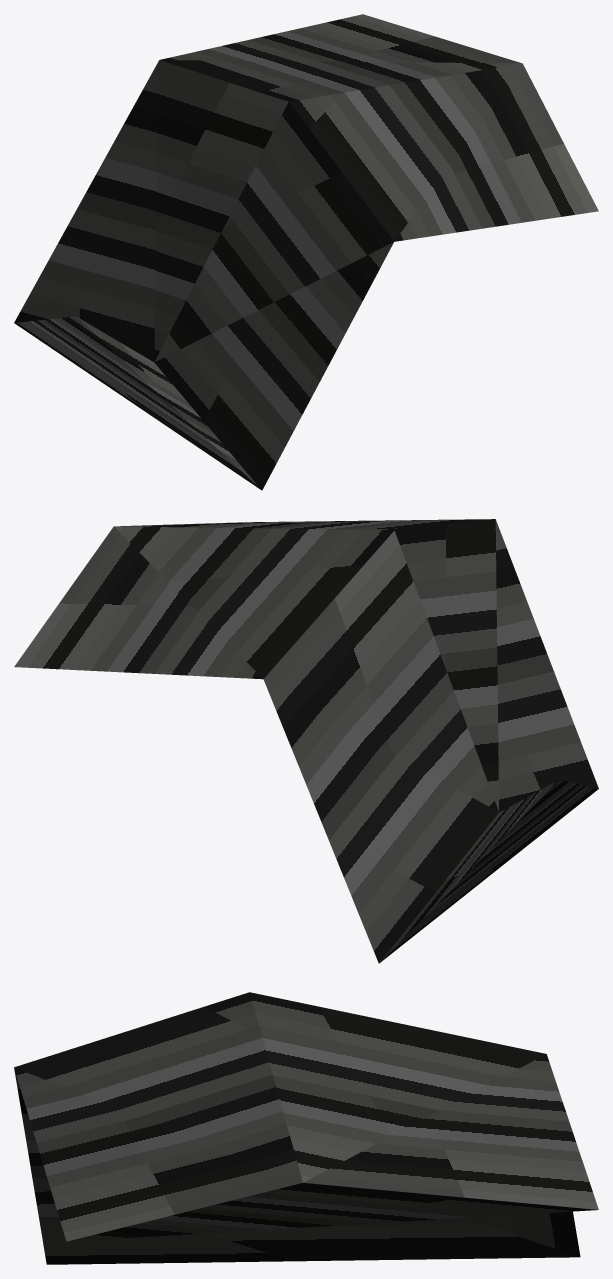
Rendered from mini_spider_leg.obj.
3 views of the same model, one above another, from view 1: azimuth 30°, elevation 25°; view 2: azimuth 150°, elevation 25°; view 3: azimuth 270°, elevation 25° (orthographic). The views are drawn at different scales.
Parts seen in each view (by area): view 1: Torus.003_Torus.010; view 2: Torus.003_Torus.010; view 3: Torus.003_Torus.010.
Part boxes in pixels (bbox=[...]): Torus.003_Torus.010: bbox=[14, 14, 598, 490]; Torus.003_Torus.010: bbox=[14, 519, 598, 963]; Torus.003_Torus.010: bbox=[14, 992, 598, 1264].
Bounding box in the file's own units: 0.9918 × 0.6285 × 0.9882.
